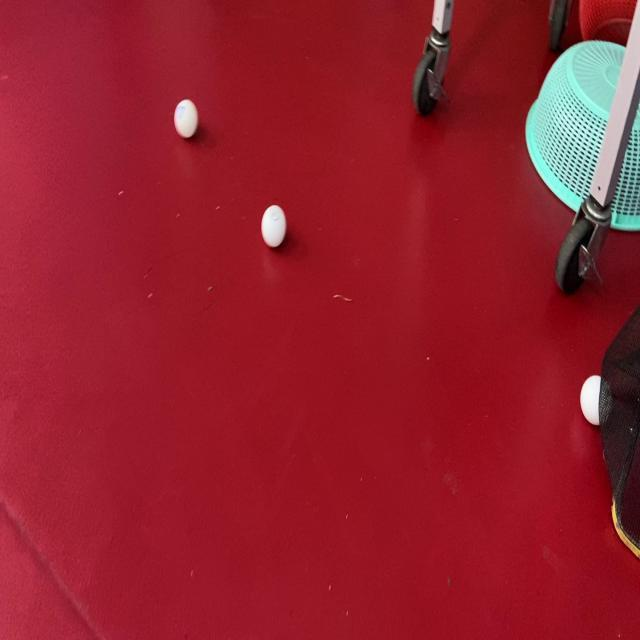ping-pong-ball: (259, 202, 288, 249), (171, 97, 200, 138)
